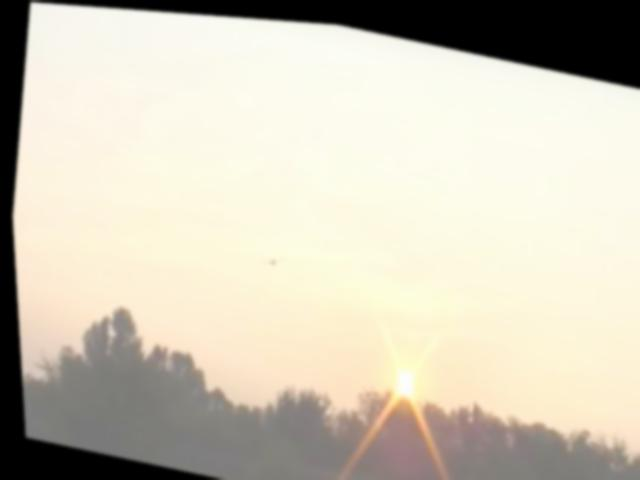iha: (258, 249, 281, 264)
